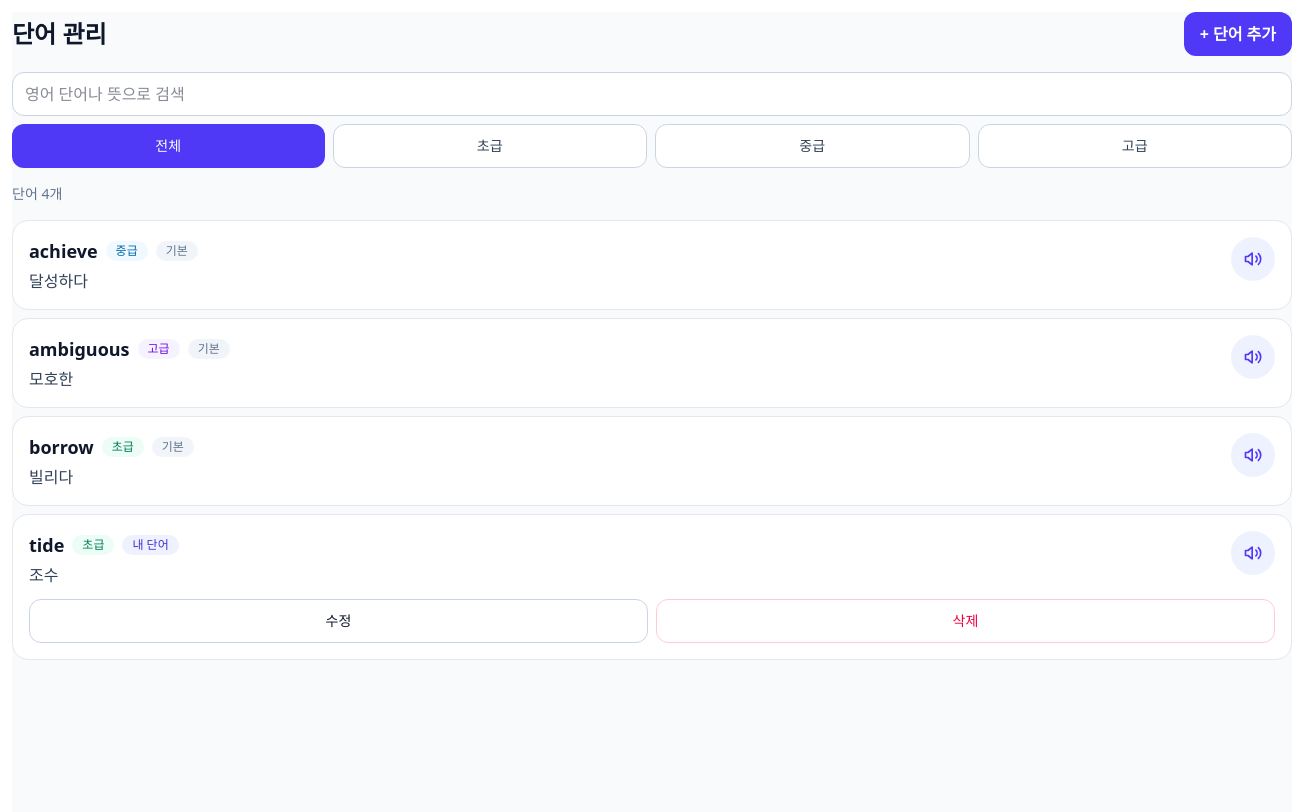
it: WordManager: 추가·수정·삭제 › 새 단어를 추가하면 DB에 저장되고 목록에 나타난다
The image size is (1304, 812).
Expected: the list named "단어 목록" is shown, [12,220,1292,660]
Click the button "+ 단어 추가": (1238, 34) [1184,12,1292,56]
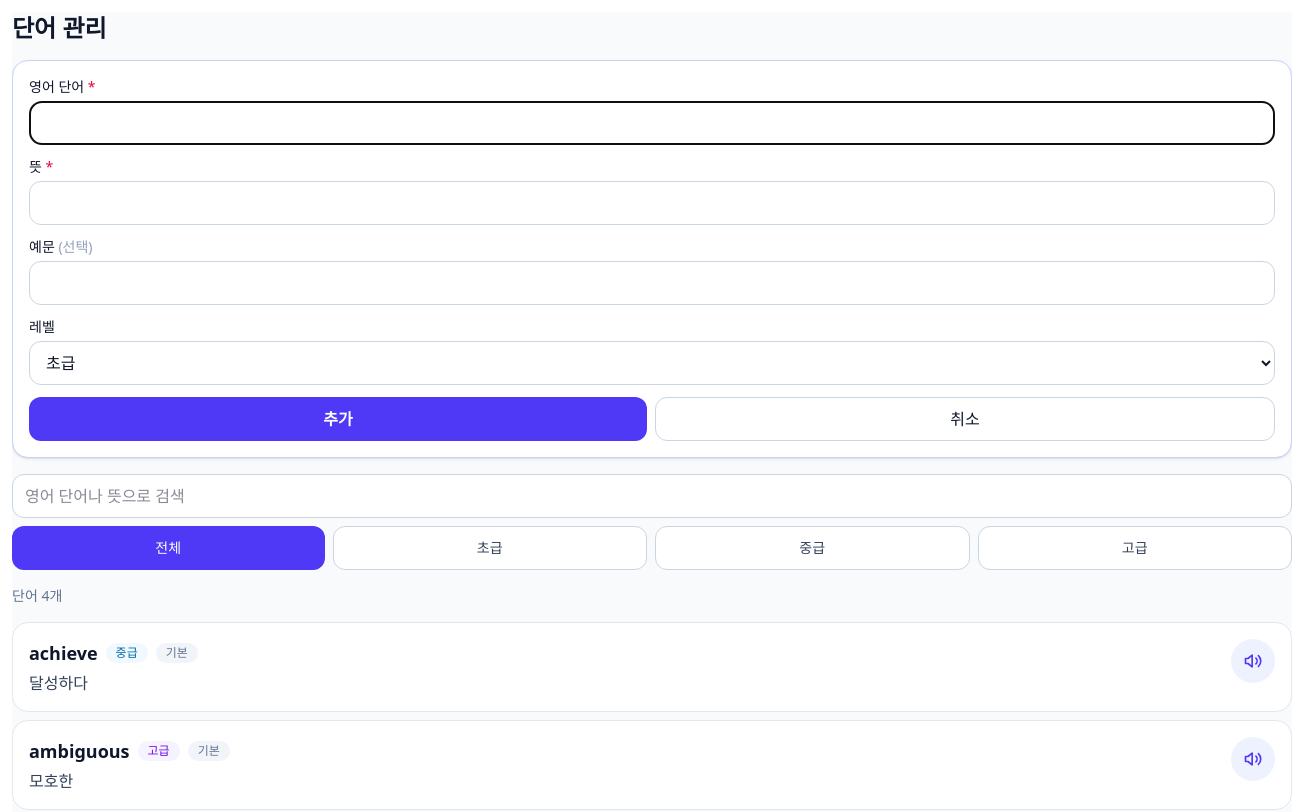
In the field labelled "영어 단어 *": (652, 123) [29,101,1275,145], type " sunrise "
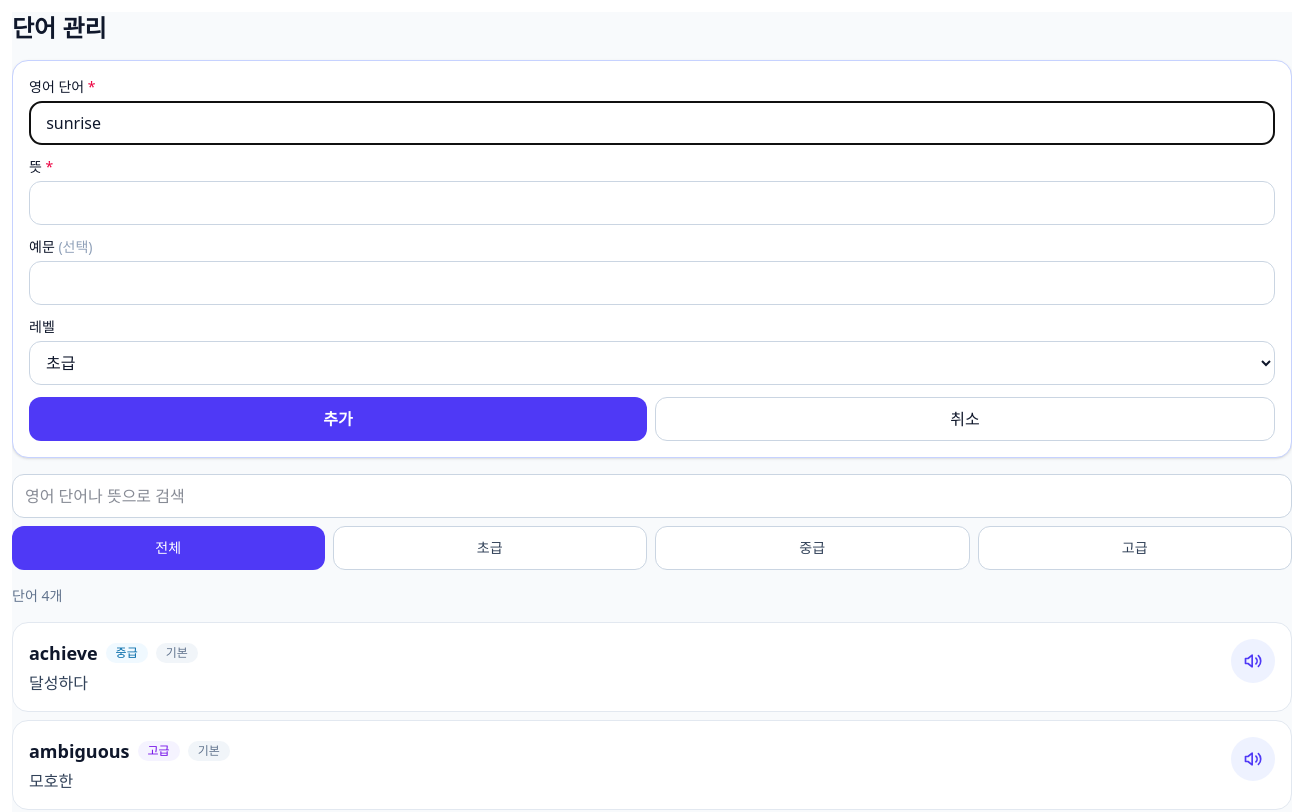
In the field labelled "뜻 *": (652, 203) [29,181,1275,225], type "일출"
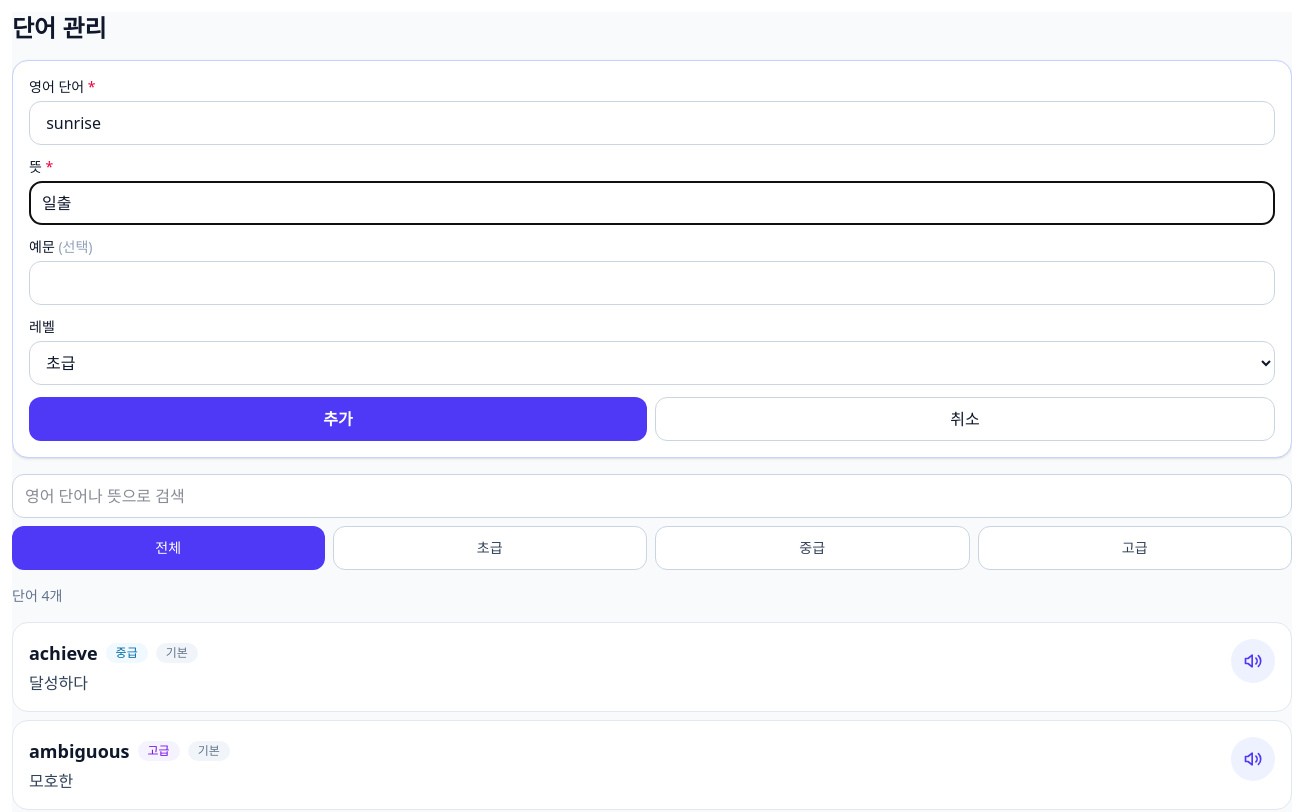
Click the button "추가": (338, 419) [29,397,647,441]
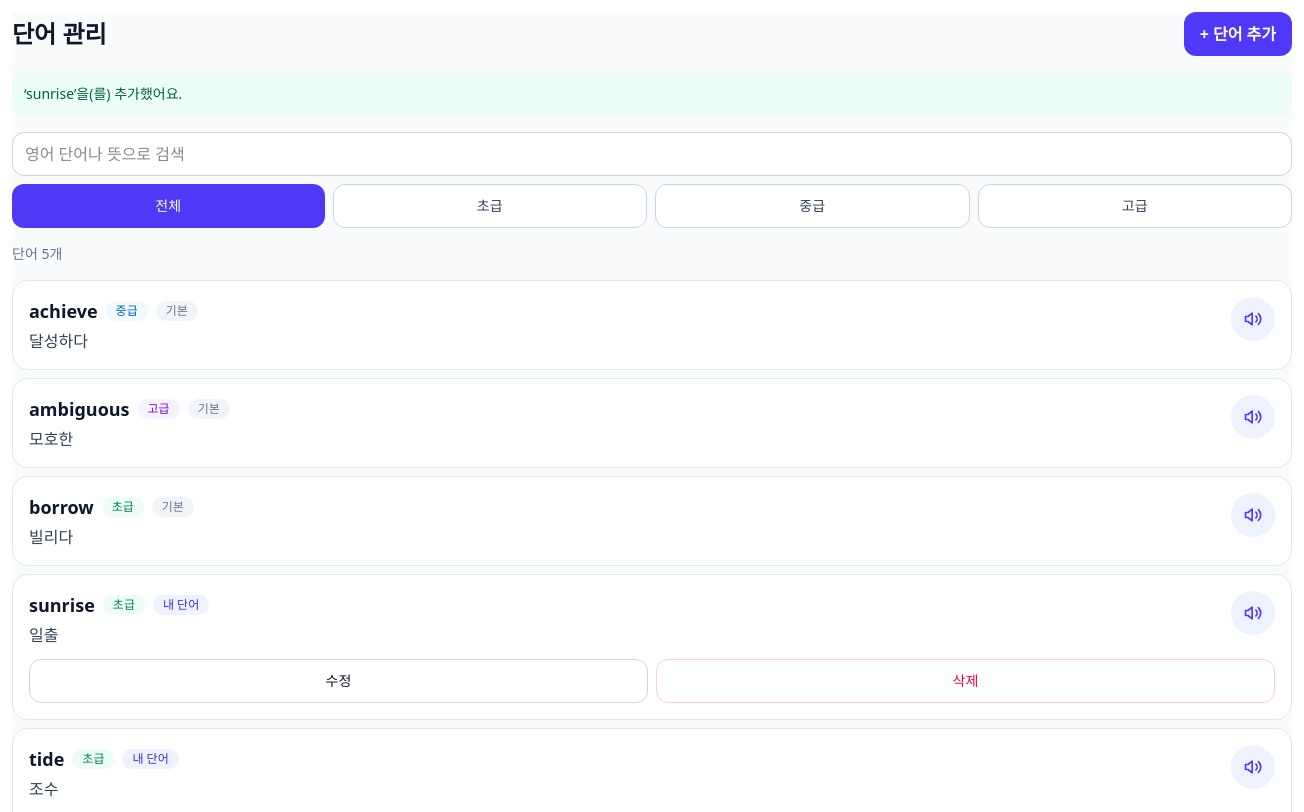
Expected: the message "‘sunrise’을(를) 추가했어요." is shown, [12,72,1292,116]
